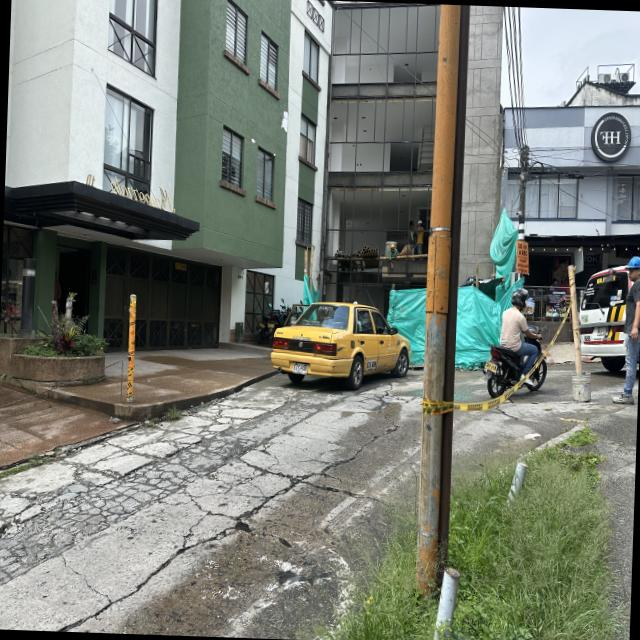number plate: (293, 361, 307, 374), (484, 360, 497, 373), (597, 326, 608, 336)
